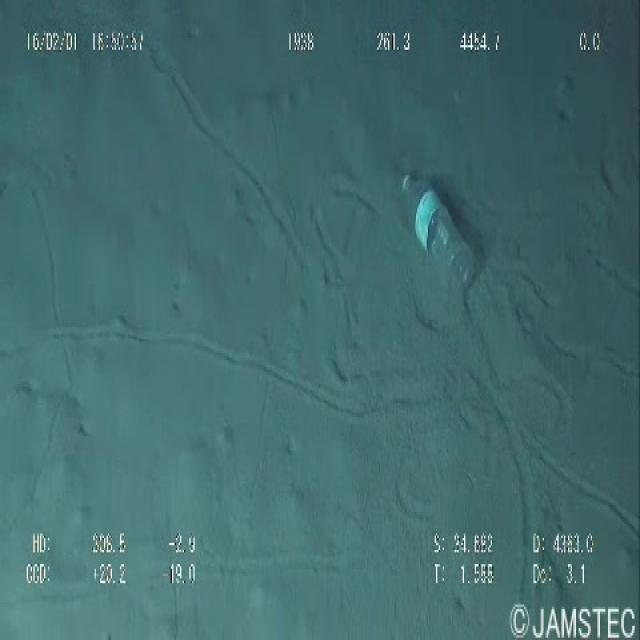plastic: (390, 161, 490, 301)
